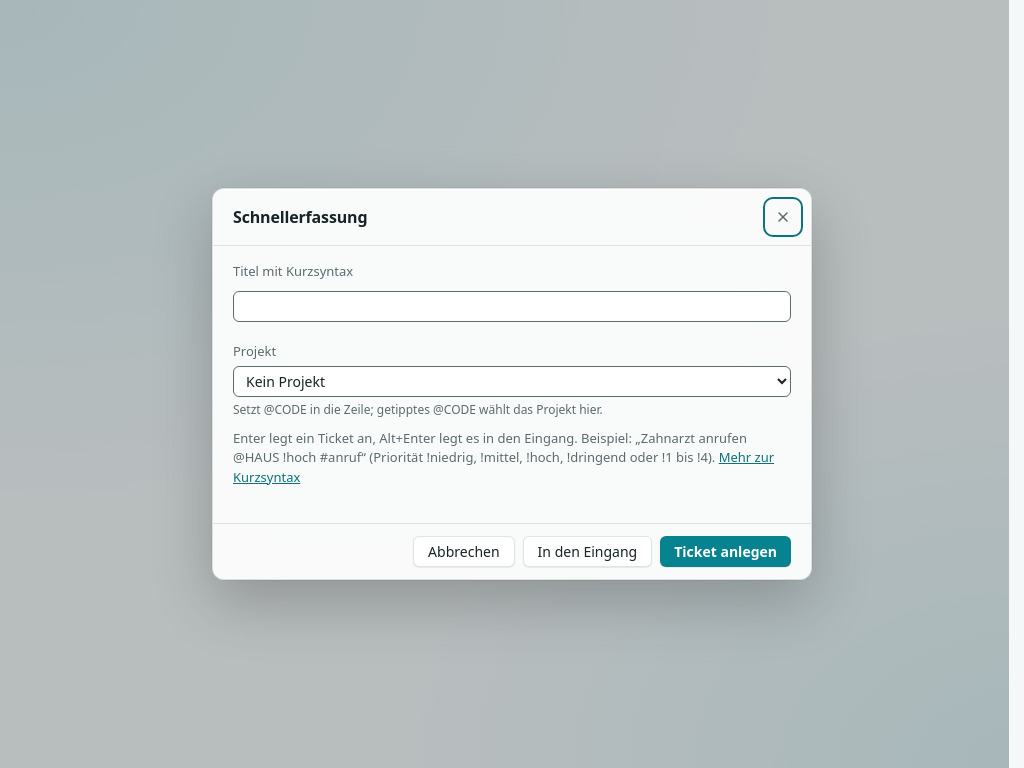
quick capture › says "Schließen" in the footer once something is saved
Expected: the button "Abbrechen" is shown, [413,536,515,567]
Step 1. Type "Milch" into the field labelled "Titel mit Kurzsyntax" → (512, 307), box [233,291,791,322]
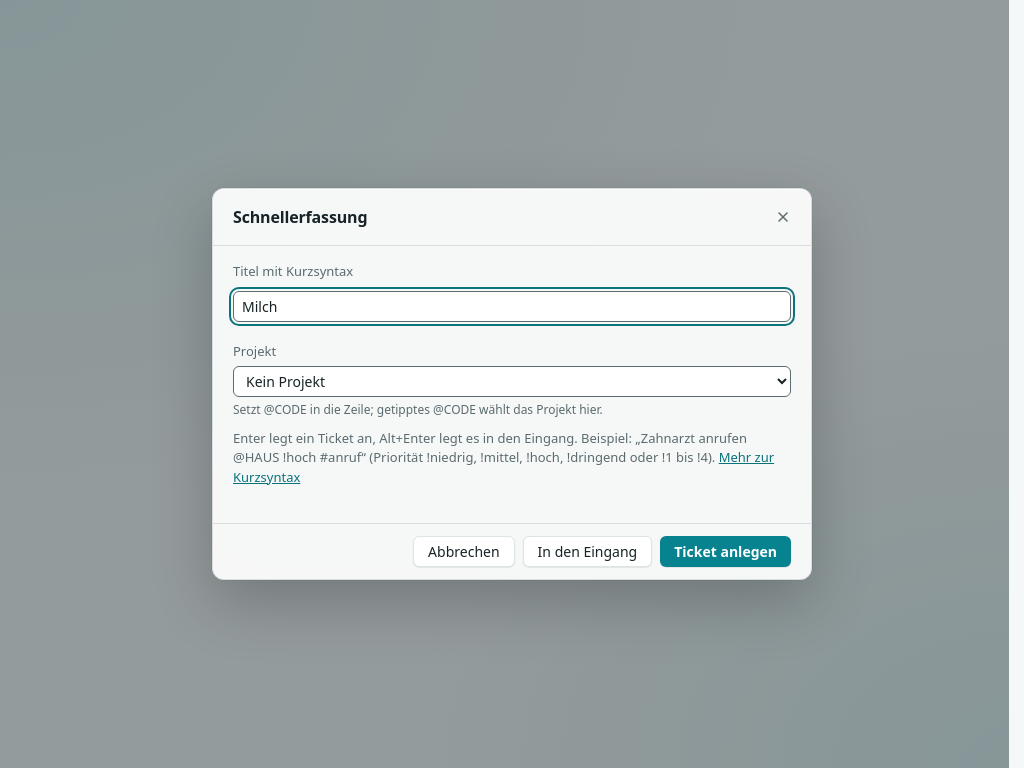
Step 2. Press Enter in the field labelled "Titel mit Kurzsyntax", box [233,291,791,322]
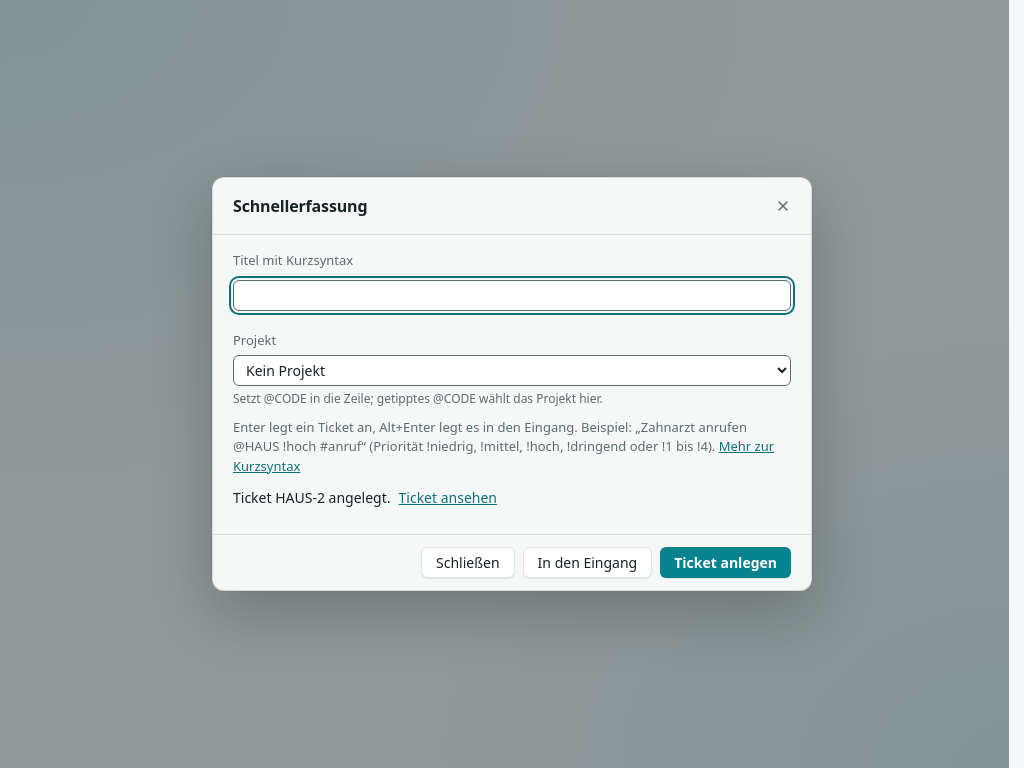
Expected: the number of buttons named "Schließen" is 2, [767,190,799,222]; [421,547,515,578]
Expected: the link "Ticket ansehen" is shown, [398,487,497,508]
Expected: the button "Abbrechen" is gone
